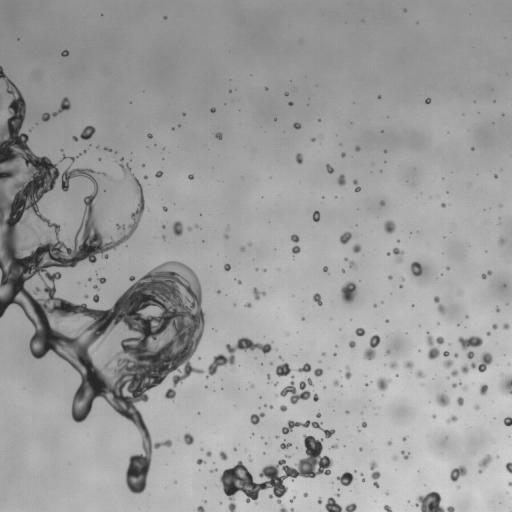droplet: (280, 378, 313, 404), (427, 333, 444, 359), (458, 336, 482, 350), (341, 281, 356, 303), (450, 466, 466, 481), (276, 362, 292, 376), (337, 472, 354, 485), (500, 375, 511, 395), (80, 125, 95, 139), (376, 377, 390, 391), (250, 412, 264, 425), (436, 394, 449, 407), (411, 261, 422, 276), (339, 232, 351, 244), (253, 288, 265, 300), (384, 220, 395, 233), (172, 221, 182, 235), (296, 363, 311, 372), (393, 248, 403, 261), (313, 293, 322, 305), (184, 433, 193, 444), (337, 174, 345, 185), (290, 234, 299, 243), (443, 359, 452, 368), (292, 245, 300, 255), (355, 328, 365, 336), (503, 416, 511, 426), (312, 210, 319, 221), (480, 384, 487, 395), (446, 416, 457, 423), (280, 442, 291, 449), (352, 244, 361, 252), (314, 368, 322, 377), (219, 451, 227, 460), (505, 462, 511, 473), (401, 451, 409, 459), (326, 164, 333, 173), (404, 361, 413, 368), (296, 153, 302, 163), (293, 122, 301, 129), (467, 351, 474, 359), (348, 341, 355, 348), (390, 361, 397, 368), (451, 369, 458, 376), (93, 294, 99, 302), (416, 371, 424, 377), (457, 397, 463, 405), (384, 505, 392, 511), (61, 50, 68, 56), (155, 171, 162, 177), (98, 278, 106, 283), (196, 459, 204, 464), (279, 506, 287, 511), (215, 133, 221, 139), (498, 238, 504, 244), (224, 264, 230, 270), (503, 323, 509, 329), (280, 405, 286, 411), (442, 351, 449, 356), (313, 394, 318, 401), (197, 506, 204, 511), (333, 380, 339, 385), (425, 98, 430, 103), (210, 107, 215, 112), (147, 133, 152, 138), (70, 157, 75, 162), (188, 174, 193, 179), (349, 261, 354, 266), (93, 284, 98, 289), (492, 324, 497, 329), (361, 422, 366, 427), (206, 451, 211, 456), (245, 303, 251, 307), (317, 497, 321, 503), (355, 146, 359, 151), (240, 246, 244, 251), (323, 266, 327, 271), (35, 287, 39, 292), (474, 405, 479, 409), (387, 440, 391, 445), (332, 444, 337, 448), (290, 497, 294, 502), (73, 136, 77, 140), (341, 152, 345, 156), (62, 155, 66, 159), (380, 201, 384, 205), (441, 203, 445, 207), (163, 207, 167, 211), (224, 234, 228, 238), (454, 353, 458, 357), (316, 413, 320, 417), (105, 148, 110, 151), (402, 437, 407, 440), (508, 481, 511, 486), (289, 102, 293, 105), (311, 138, 315, 141), (187, 227, 191, 230), (388, 275, 391, 279), (84, 295, 88, 298), (496, 307, 499, 311), (386, 350, 390, 353), (267, 374, 270, 378), (274, 382, 278, 385), (286, 455, 290, 458), (303, 493, 307, 496), (144, 175, 147, 178), (487, 332, 490, 335), (279, 356, 282, 359), (432, 414, 435, 417), (336, 493, 339, 496), (237, 281, 241, 283), (164, 16, 166, 19), (285, 92, 287, 95), (494, 175, 497, 177), (162, 236, 165, 238), (387, 252, 389, 255), (344, 258, 347, 260), (342, 269, 344, 272), (88, 278, 91, 280), (217, 290, 219, 293), (322, 352, 324, 355), (333, 353, 336, 355), (270, 405, 272, 408), (233, 448, 236, 450), (359, 448, 362, 450), (362, 478, 364, 481), (290, 509, 293, 511), (121, 158, 123, 160), (446, 267, 448, 269), (402, 278, 404, 280), (400, 285, 402, 287), (302, 318, 304, 320), (386, 320, 388, 322), (291, 375, 293, 377), (251, 384, 253, 386), (463, 387, 465, 389), (346, 411, 348, 413), (393, 456, 395, 458), (457, 486, 459, 488), (386, 493, 388, 495)
ligament: (0, 65, 204, 493), (220, 434, 333, 511), (206, 337, 271, 378), (282, 420, 335, 438), (416, 491, 454, 511), (41, 97, 70, 121), (461, 352, 492, 374), (363, 334, 380, 360), (325, 497, 356, 511), (478, 454, 492, 473), (370, 461, 380, 487), (434, 296, 444, 313), (344, 366, 351, 379), (353, 180, 360, 191), (482, 271, 491, 278), (452, 382, 461, 387), (210, 469, 216, 472)
